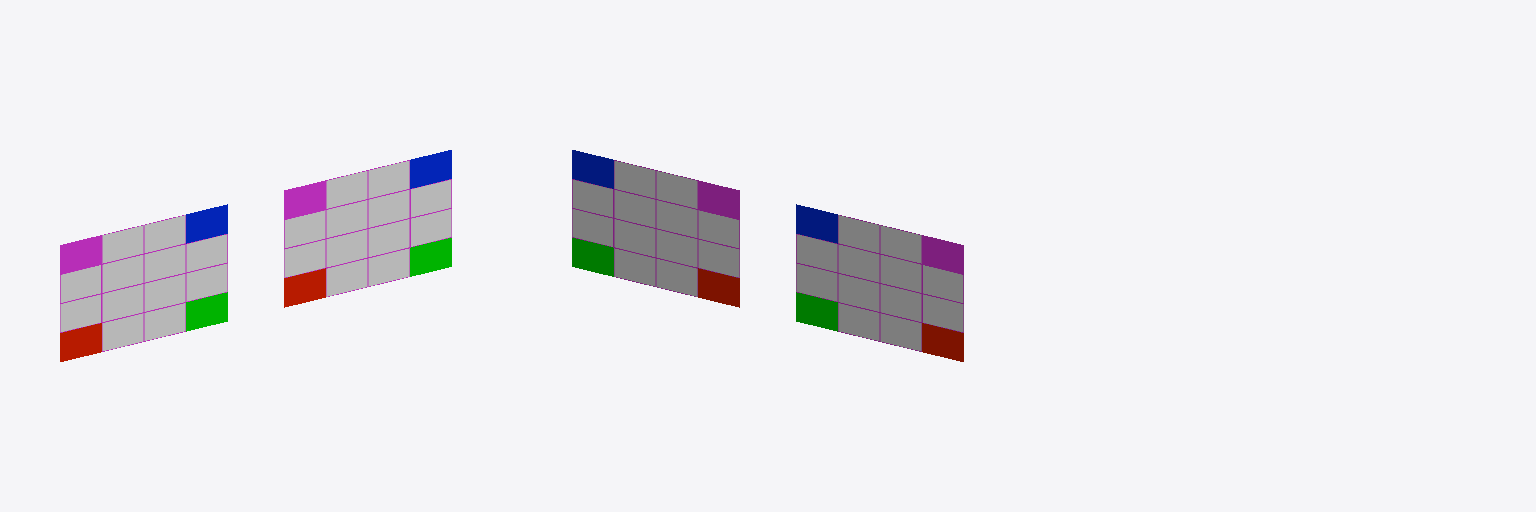
The picture shows the model from 3 angles: view 1: azimuth 30°, elevation 25°; view 2: azimuth 150°, elevation 25°; view 3: azimuth 270°, elevation 25°; orthographic projection.
Parts seen in each view (by area): view 1: default; view 2: default; view 3: none.
Part boxes in pixels (x1,y1,x2,y2): default: (60,150,451,361); default: (572,150,963,361).
Bounding box in the file's own units: 45.15 × 12.9 × 0.
Materials: 2 (1 with a texture image).